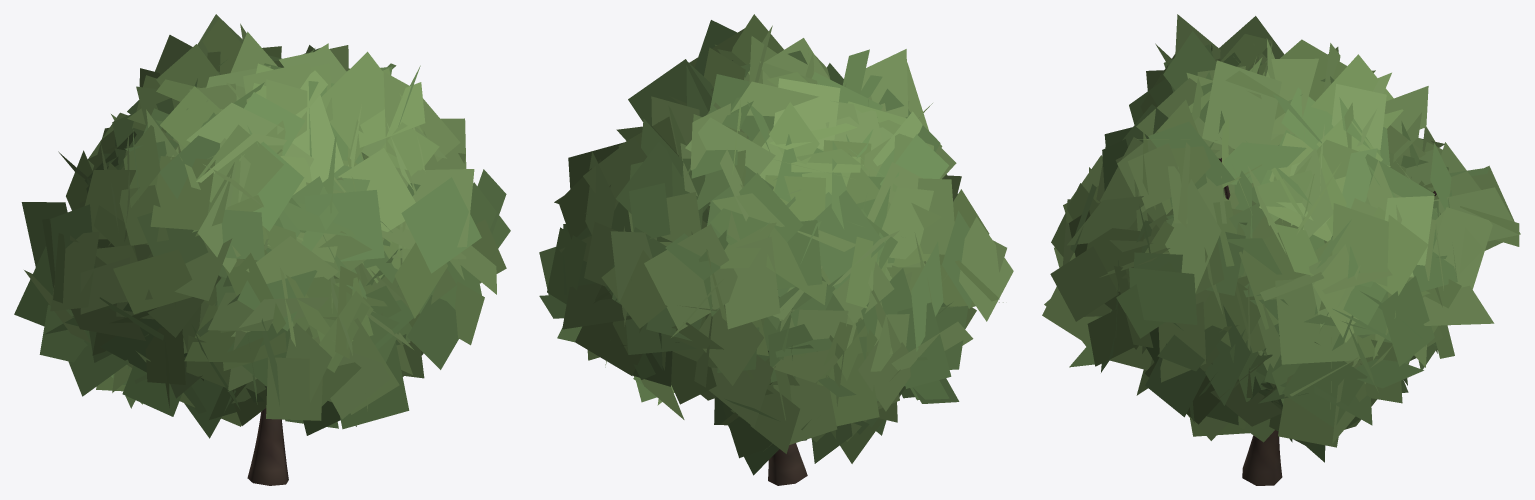
The model's file is oak_0.glb.
3 renders of one model, left to right at view 1: azimuth 30°, elevation 25°; view 2: azimuth 150°, elevation 25°; view 3: azimuth 270°, elevation 25°, orthographic. The views are drawn at different scales.
Visible parts, largest first — view 1: oak_0; view 2: oak_0; view 3: oak_0.
Part boxes in pixels (<box>): oak_0: <box>14,14,510,485</box>; oak_0: <box>539,14,1013,485</box>; oak_0: <box>1042,14,1520,485</box>.
Bounding box in the file's own units: 1 × 1 × 0.9933.
